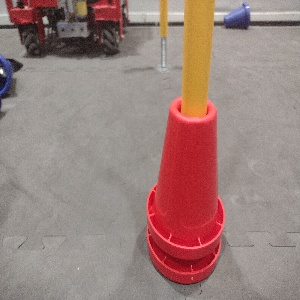Red_2: (141, 82, 226, 286)
